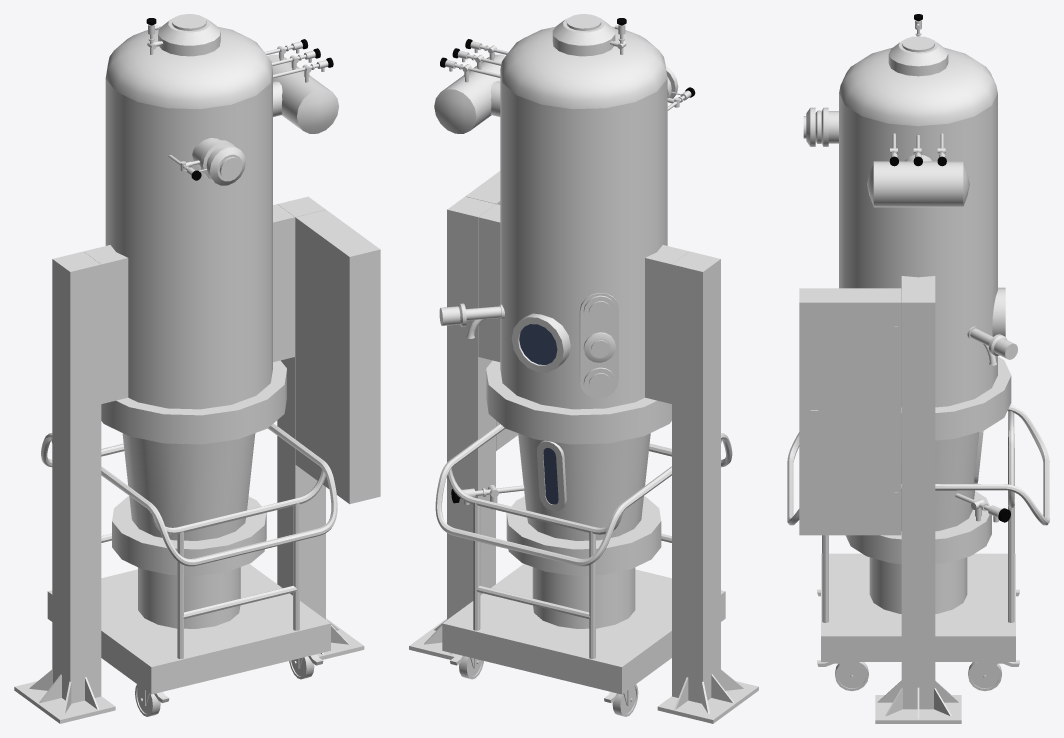
Rendered from Test Scale.gltf.
3 renders of one model, left to right at view 1: azimuth 30°, elevation 25°; view 2: azimuth 150°, elevation 25°; view 3: azimuth 270°, elevation 25°, orthographic. The views are drawn at different scales.
Visible parts, largest first — view 1: Body, TopLock; view 2: Body, TopLock, SmallLock; view 3: Body, TopLock, SmallLock.
Boxes of the visible parts, <box> form: Body: <box>14,39,380,723</box>; TopLock: <box>105,14,272,109</box>; Body: <box>409,39,758,723</box>; TopLock: <box>500,14,667,109</box>; SmallLock: <box>511,313,570,372</box>; Body: <box>787,93,1049,723</box>; TopLock: <box>839,14,997,126</box>; SmallLock: <box>992,287,1005,336</box>.
Size of the model in its own units: 2.59 by 5.37 by 2.06.
1 material, 1 textured.
